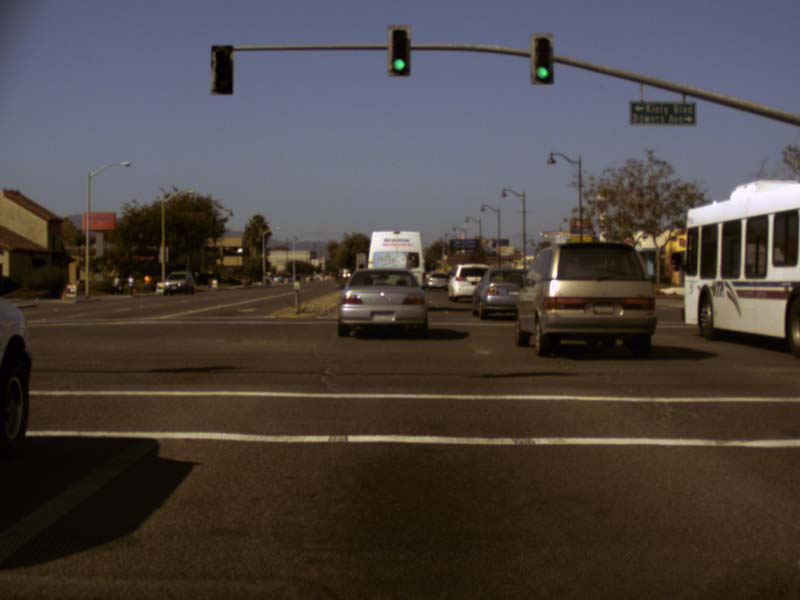Green: (387, 25, 409, 75), (530, 34, 552, 83)
